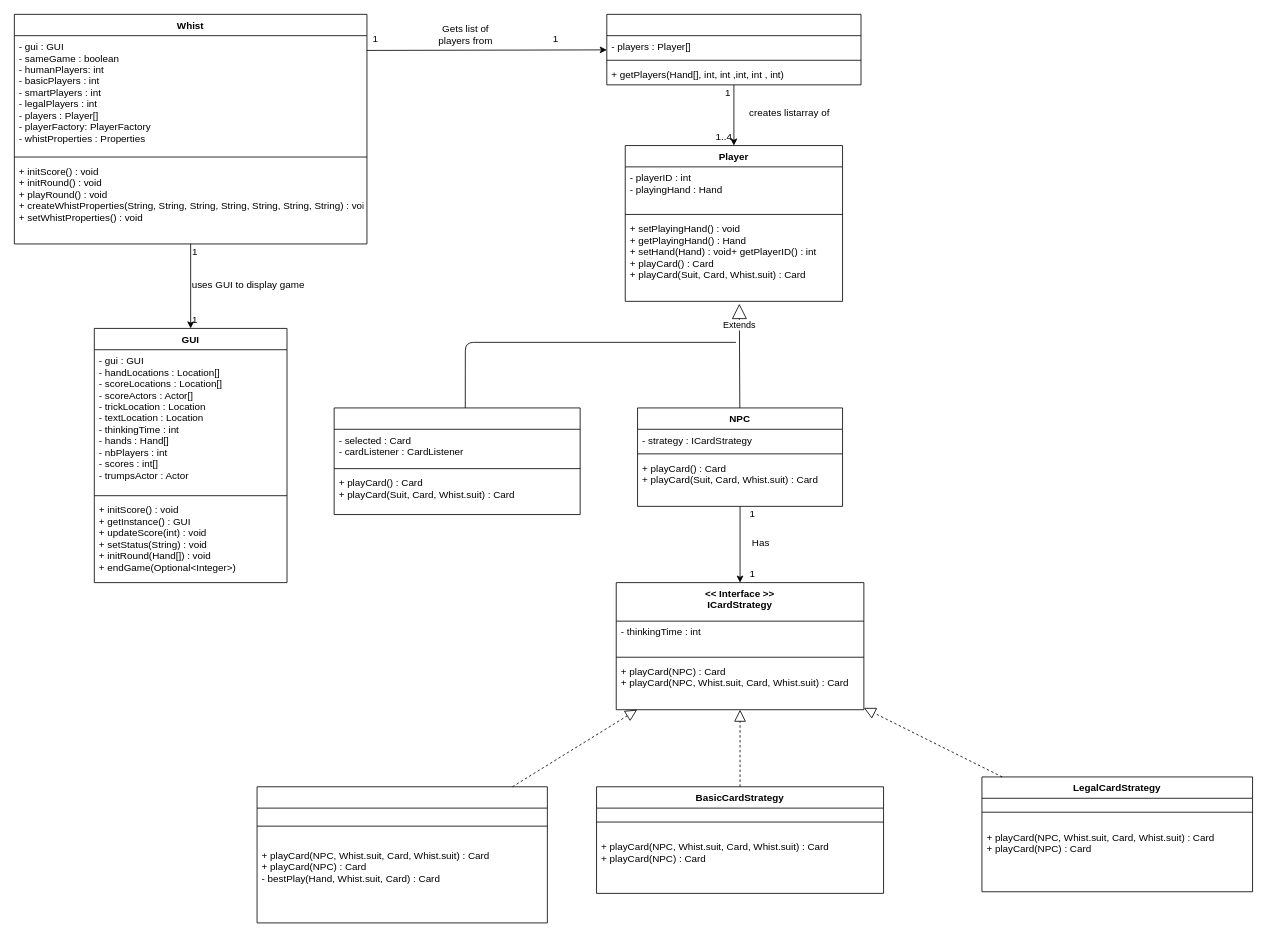
Some shapes in this 1267 by 940 pixel diagram are drawn without their labels. Here are the shapes that lost their labels. From the top down, the box of each, then its label:
(606, 14, 861, 85): PlayerFactory
(333, 407, 580, 515): HumanPlayer
(256, 786, 547, 923): SmartCardStrategy
